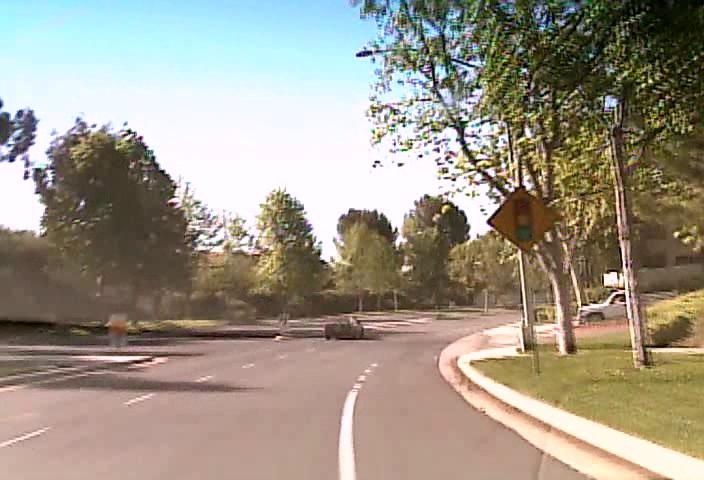signalAhead: (486, 184, 560, 253)
